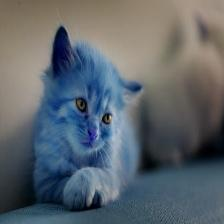kedo: (33, 27, 141, 210)
